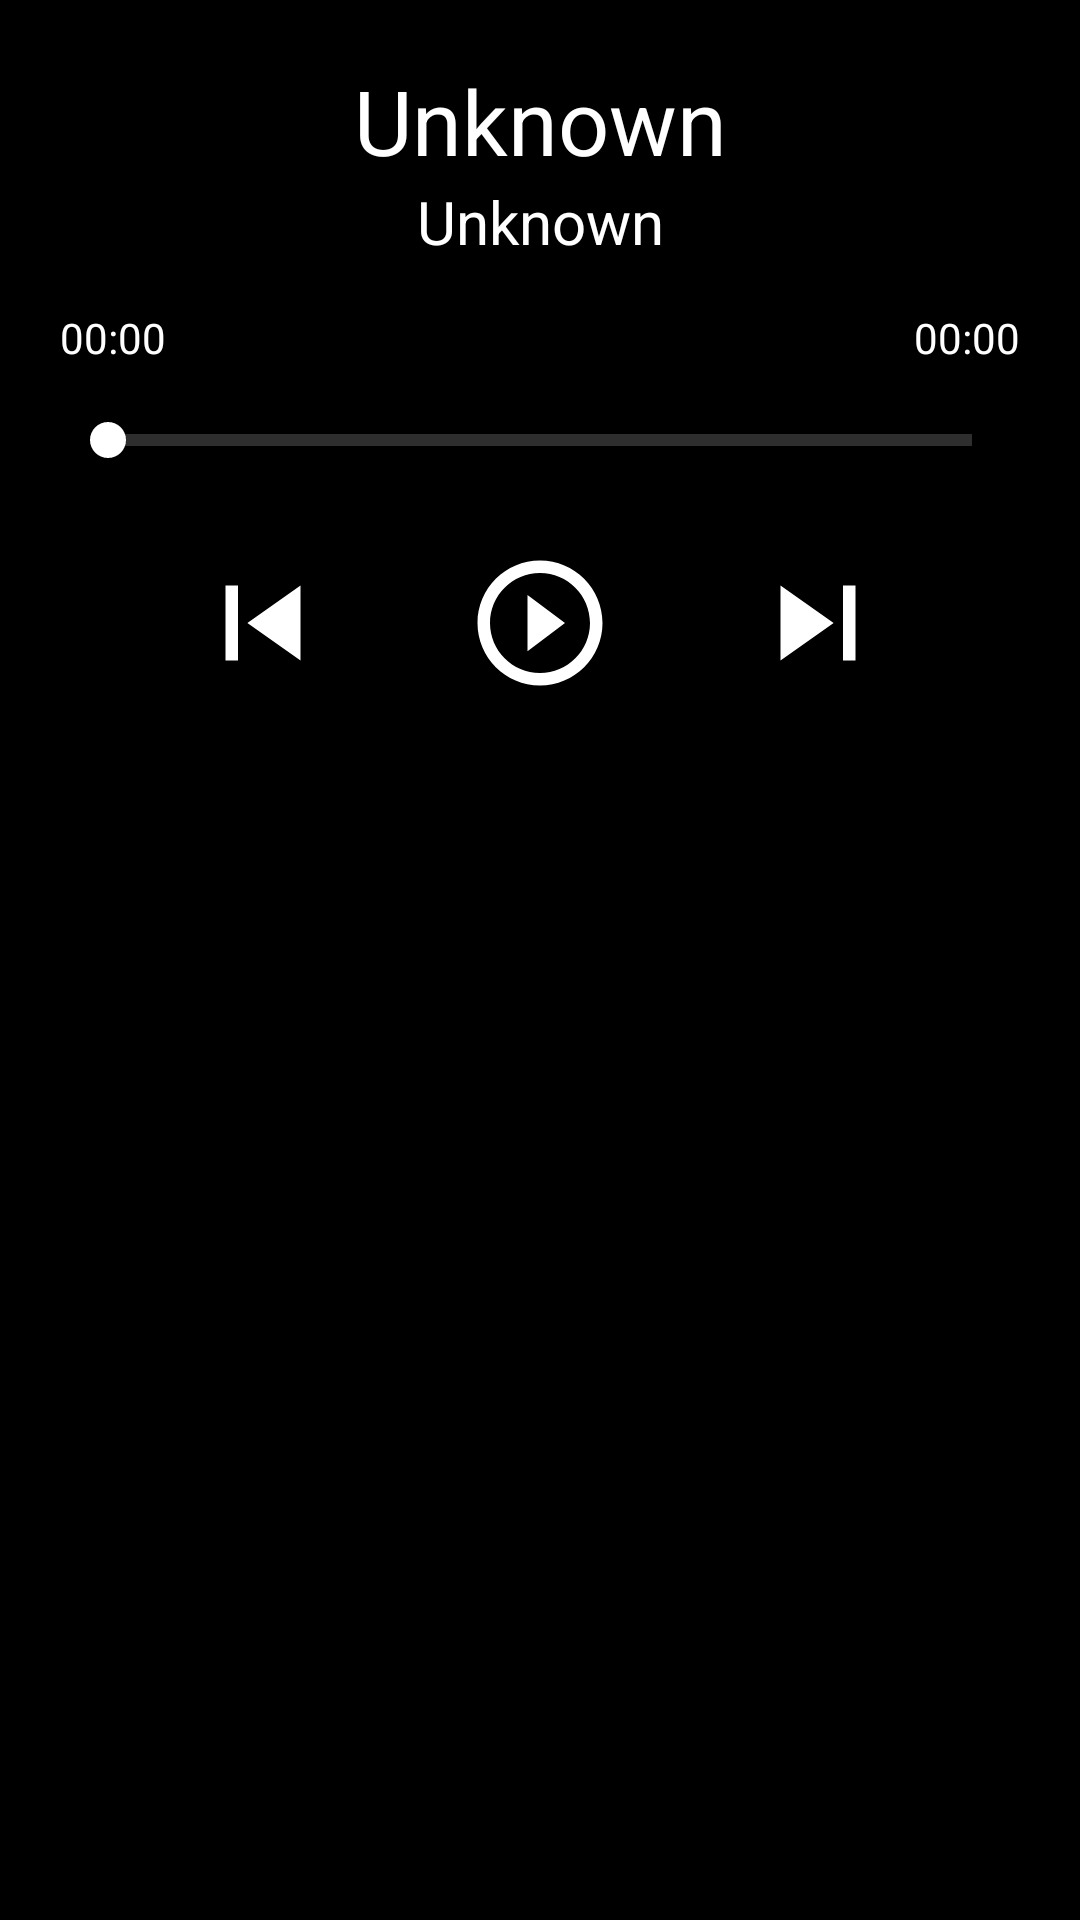

Icon click points for this 1080x1920 phone screenshot, format [x,y]:
play circle: [540,623]
skip next: [818,623]
skip previous: [263,623]
